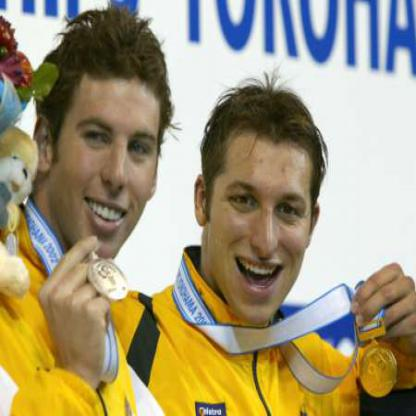face: (52, 32, 165, 264), (209, 100, 318, 325)
